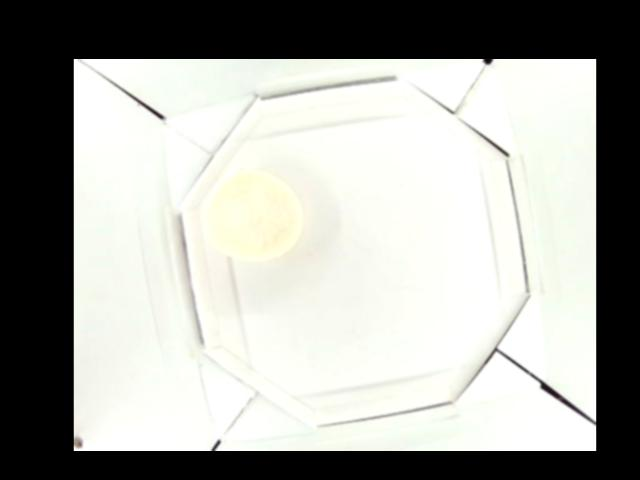Mooli: (202, 170, 303, 263)
